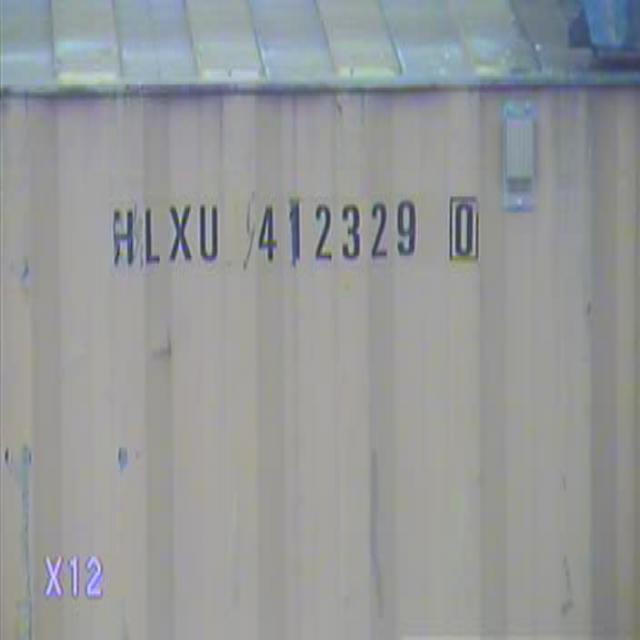container_number_h: (80, 164, 538, 327)
